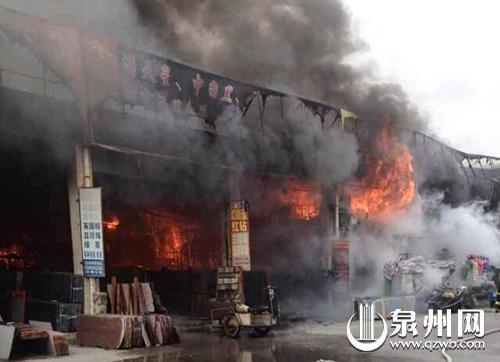fire: (341, 125, 420, 218), (274, 177, 322, 221), (158, 222, 186, 259), (104, 212, 121, 228)
